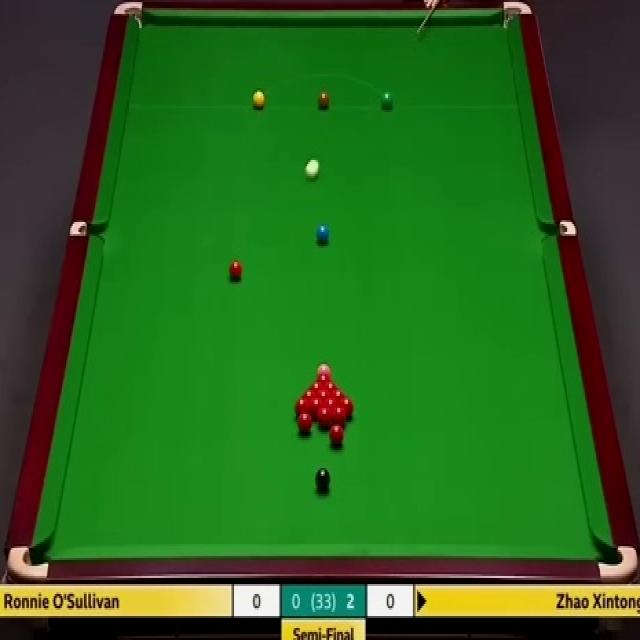black-ball: (316, 468, 330, 490)
blue-ball: (316, 222, 330, 243)
brown-ball: (317, 89, 330, 111)
green-ball: (380, 89, 393, 110)
pink-ball: (316, 362, 334, 376)
red-ball: (299, 412, 313, 433), (228, 261, 242, 282), (330, 424, 343, 446), (340, 396, 354, 415), (334, 406, 346, 428), (310, 398, 323, 418), (333, 389, 345, 410), (295, 399, 309, 417), (318, 408, 331, 427), (325, 399, 337, 419), (316, 392, 333, 398), (302, 391, 316, 398)
white-ball: (305, 158, 320, 178)
yellow-ball: (253, 90, 265, 110)
